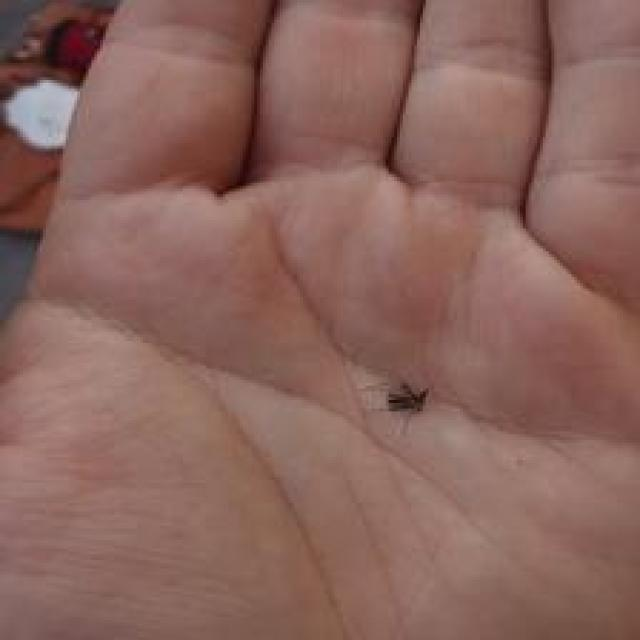Aedes albopictus: (384, 380, 430, 434)
